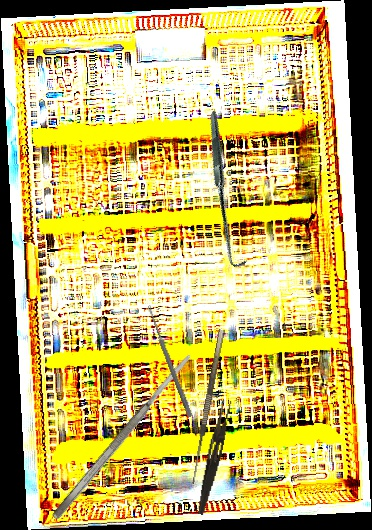Dressing Forceps: (195, 398, 233, 517)
Hook Surgical: (148, 109, 307, 271), (189, 329, 233, 486)
Spatula Surgical: (49, 350, 197, 522)
Surgical Spoon: (145, 304, 194, 418)
